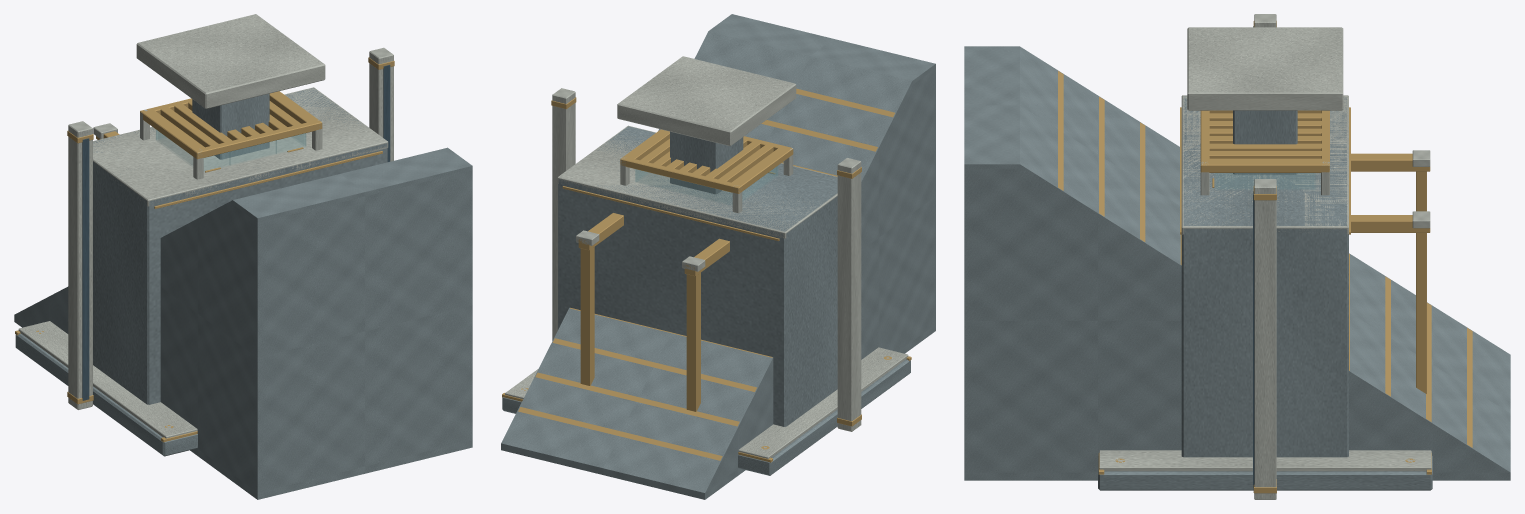
Rendered from water-devices-v01.glb.
The picture shows the model from 3 angles, left to right: view 1: azimuth 30°, elevation 25°; view 2: azimuth 150°, elevation 25°; view 3: azimuth 270°, elevation 25°; orthographic projection. The views are drawn at different scales.
Parts seen in each view (by area): view 1: Ground-supported return ramp.001, Grounded service platform.001, Service platform fitted coping.001, Supported basin capital.001, Grounded lift guide.002, Neutral tank graduation.010, Fitted lift tread.005, Moving deck structure.001, Guide dark channel.002, Lower basin support pier.001, Clear inlet flank.002, Service platform restrained bronze lip.002 (+1 smaller); view 2: Ground-supported return ramp.001, Grounded service platform.001, Supported basin capital.001, Grounded lift guide.002, Service platform fitted coping.001, Collector support shaft.002, Flush return ramp tread.011, Neutral tank graduation.010, Fitted lift tread.005, Moving deck structure.001, Lower basin support pier.001, Clear inlet flank.002 (+3 smaller); view 3: Ground-supported return ramp.001, Grounded service platform.001, Supported basin capital.001, Grounded lift guide.002, Moving deck structure.001, Neutral tank graduation.010, Fitted lift tread.005, Service platform fitted coping.001, Collector support shaft.002, Flush return ramp tread.011, Lower basin support pier.001, Clear inlet flank.002 (+1 smaller).
Boxes of the visible parts, x1,y1,x2,y2 form: Ground-supported return ramp.001: (14,147,472,499); Grounded service platform.001: (93,88,387,404); Service platform fitted coping.001: (93,87,388,206); Supported basin capital.001: (136,14,325,108); Grounded lift guide.002: (68,47,393,409); Neutral tank graduation.010: (140,91,322,172); Fitted lift tread.005: (18,321,197,438); Moving deck structure.001: (15,333,197,456); Guide dark channel.002: (82,65,390,400); Lower basin support pier.001: (192,93,269,159); Clear inlet flank.002: (156,129,306,171); Service platform restrained bronze lip.002: (154,151,382,208); Ground-supported return ramp.001: (501,14,935,499); Grounded service platform.001: (558,126,837,426); Supported basin capital.001: (617,56,796,146); Grounded lift guide.002: (552,88,861,431); Service platform fitted coping.001: (557,125,837,238); Collector support shaft.002: (578,213,729,411); Flush return ramp tread.011: (518,88,894,460); Neutral tank graduation.010: (620,129,793,193); Fitted lift tread.005: (505,347,908,458); Moving deck structure.001: (502,359,910,475); Lower basin support pier.001: (670,131,743,194); Clear inlet flank.002: (635,166,777,205); Ground-supported return ramp.001: (964,46,1510,480); Grounded service platform.001: (1181,96,1348,457); Supported basin capital.001: (1187,27,1343,110); Grounded lift guide.002: (1254,14,1276,499); Moving deck structure.001: (1098,456,1432,490); Neutral tank graduation.010: (1200,110,1329,187); Fitted lift tread.005: (1099,450,1431,471); Service platform fitted coping.001: (1181,95,1348,234); Collector support shaft.002: (1351,153,1430,393); Flush return ramp tread.011: (1058,71,1472,447); Lower basin support pier.001: (1233,110,1297,174); Clear inlet flank.002: (1214,173,1315,189).
Size of the model in its own units: 3.69 by 3.64 by 4.9.
6 materials, 3 textured.
